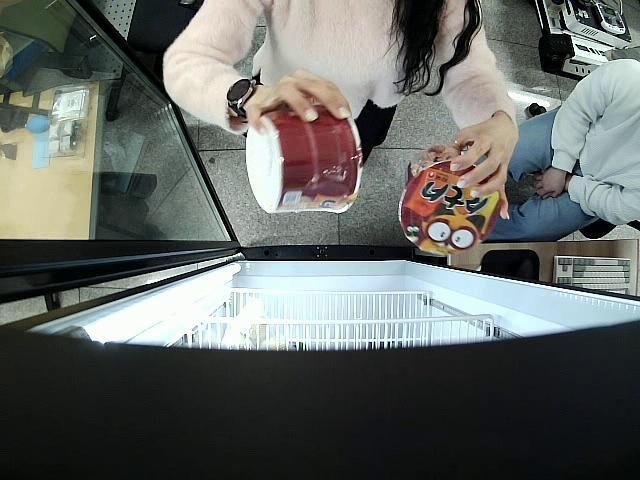05_nuguri_L: (245, 98, 362, 216), (397, 144, 504, 255)
